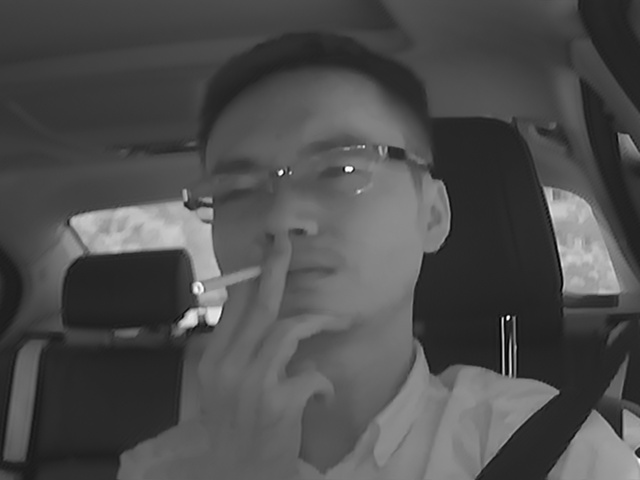hand: (215, 248, 340, 403)
